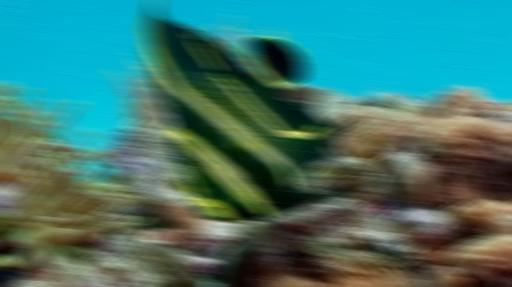Fish: (142, 0, 345, 219)
